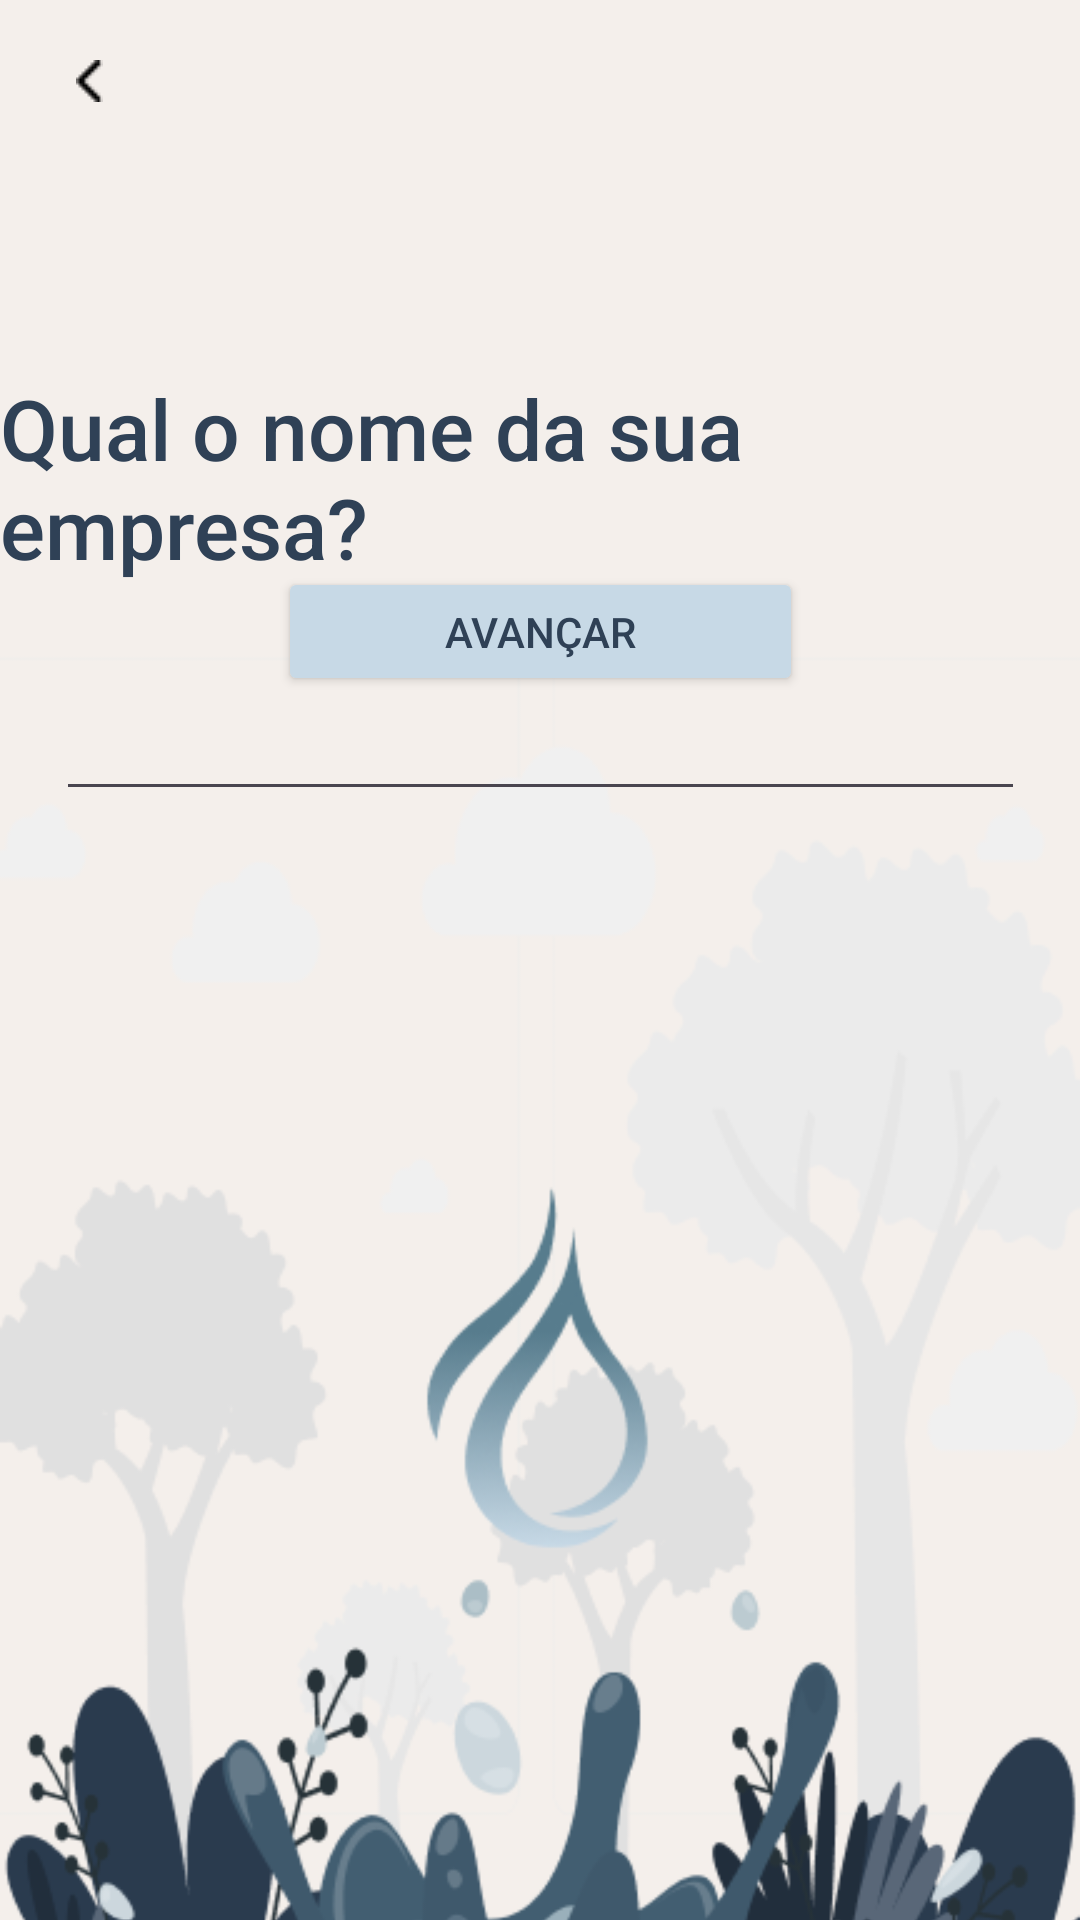

Named icons in this screenshot (1080×1920) and their centers, (x=x, y=y):
setaleft: (x=89, y=81)
